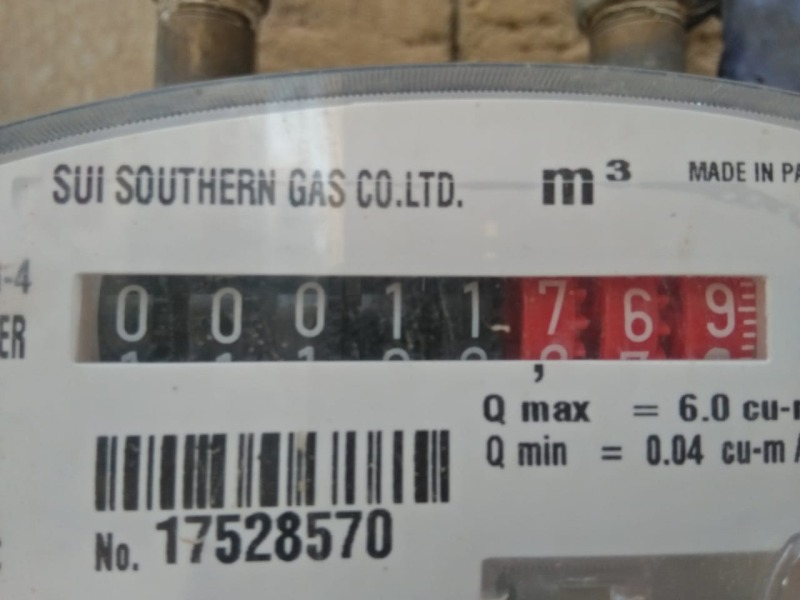ssgc: (67, 269, 768, 369)
